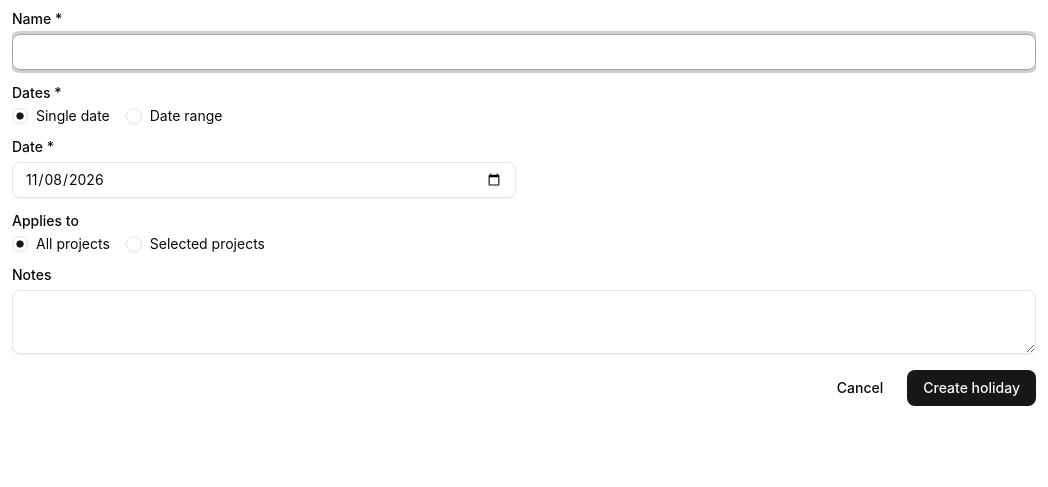
Test: HolidayForm › shows the duplicate error from the server
Type "Diwali" into the field labelled "Name *" at (524, 52), box [12,34,1036,70]
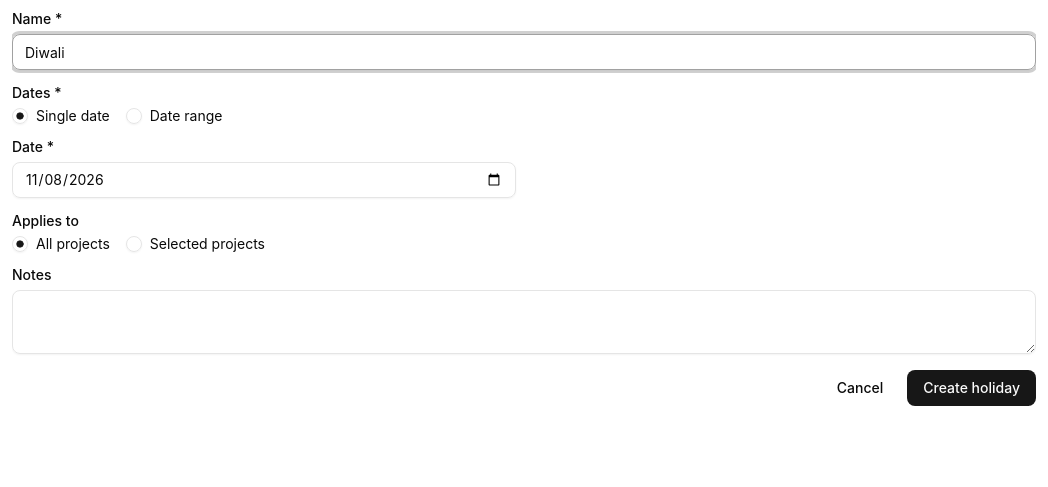
Click the button "Create holiday" at (972, 388), box [907,370,1036,406]
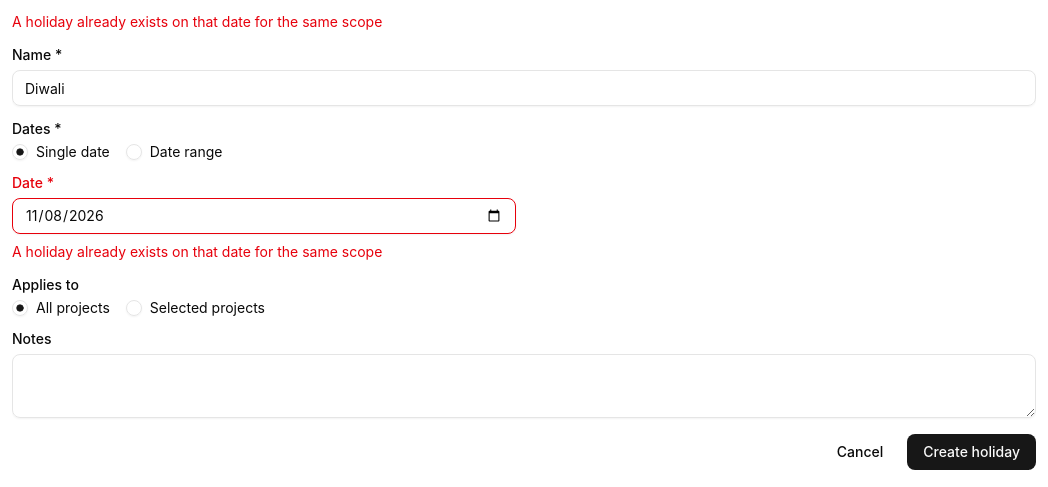
expect the message reads "A holiday already exists on that date for the same scope": met, box [12,13,382,30]
